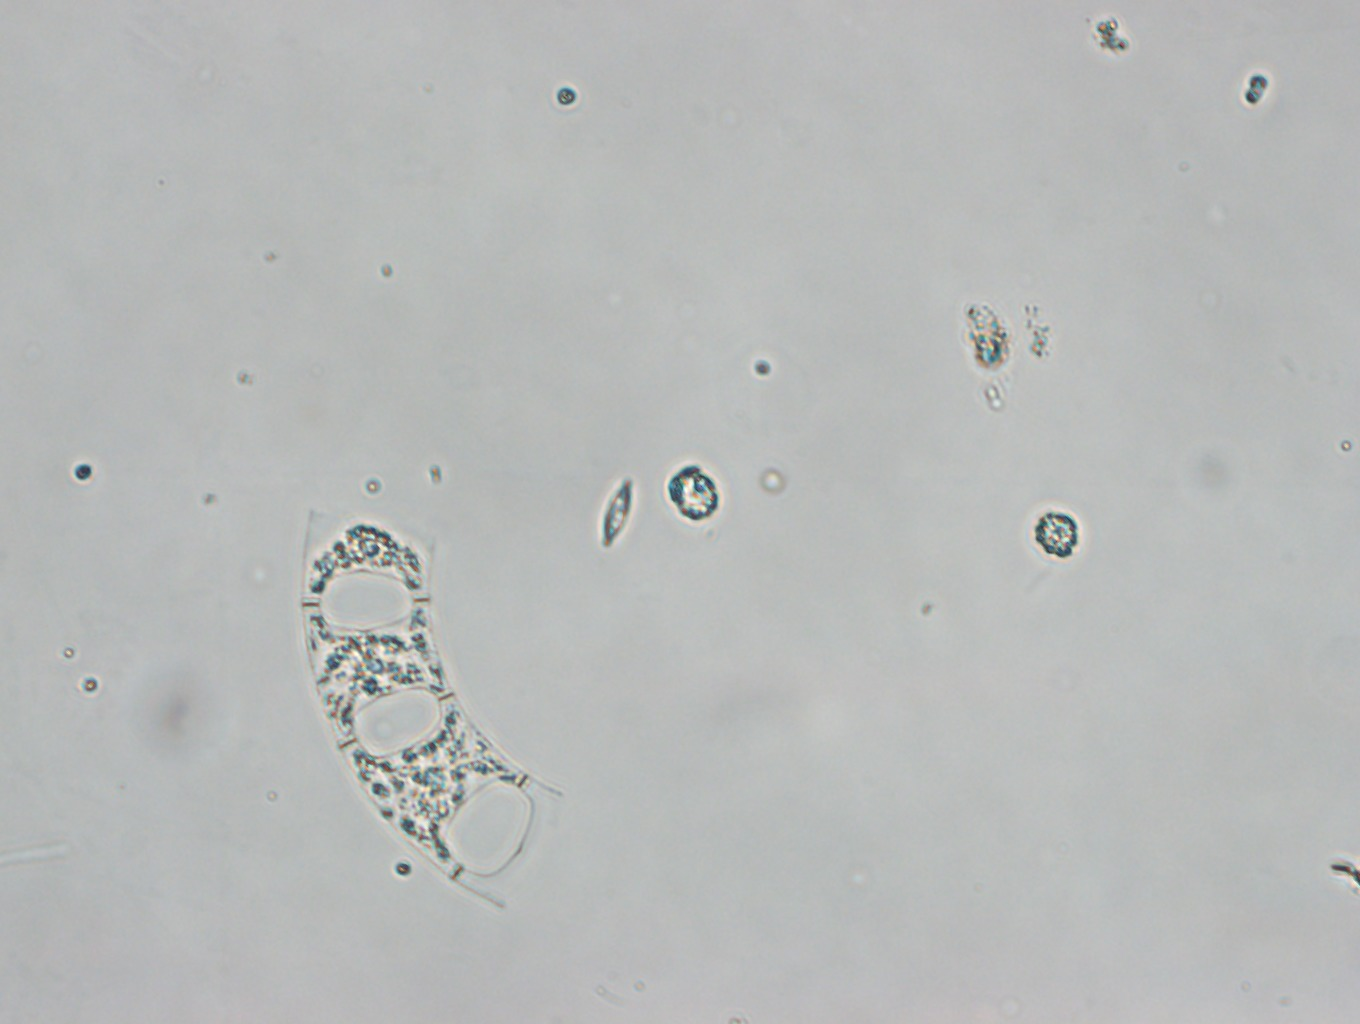eucampia: (284, 502, 572, 905)
